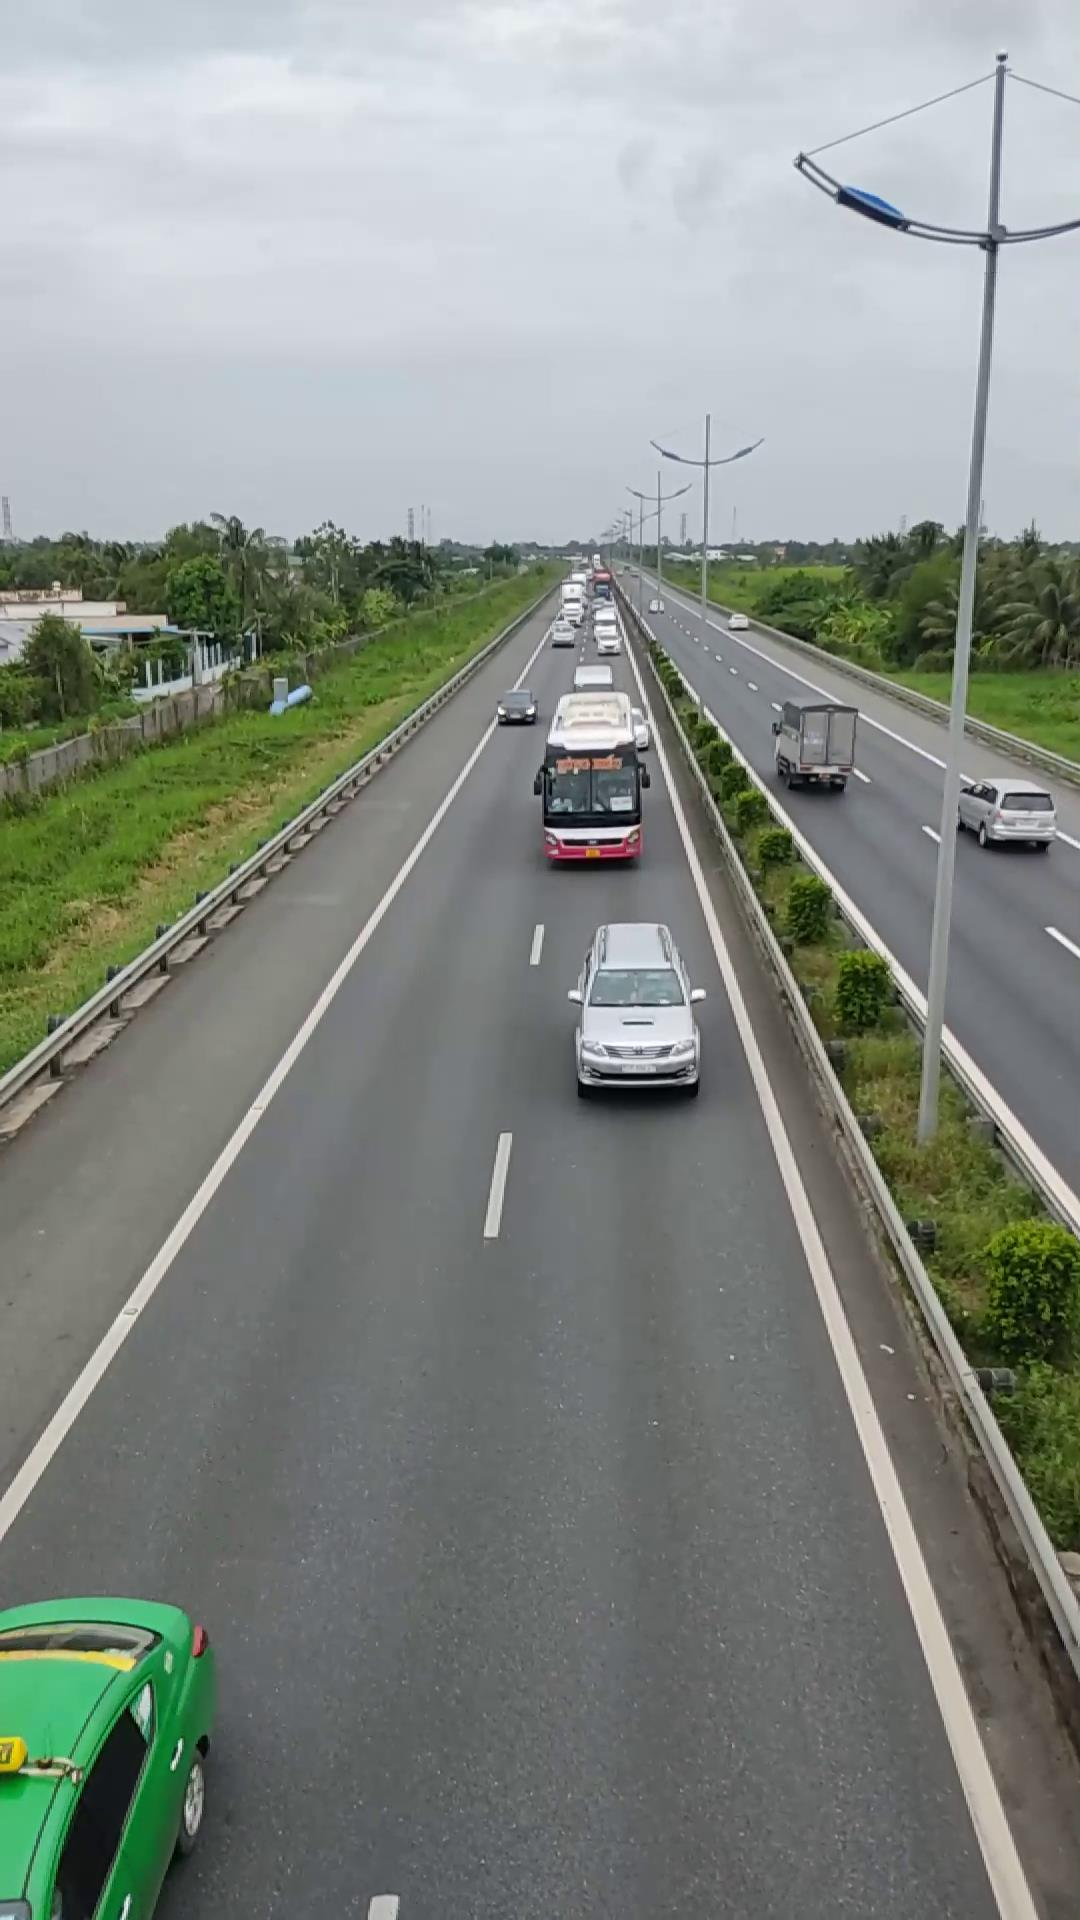bus: (534, 691, 645, 861)
car: (568, 919, 703, 1095), (952, 773, 1055, 849)
truck: (769, 692, 858, 791)
